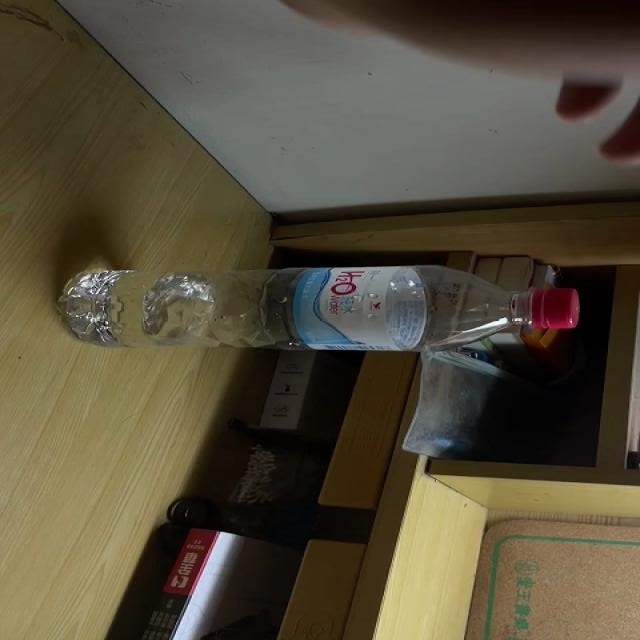Water: (58, 265, 580, 353)
